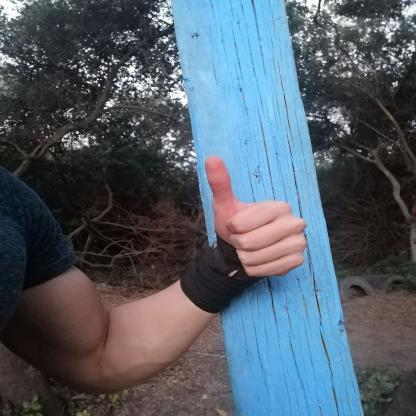ALIF: (189, 152, 322, 289)
